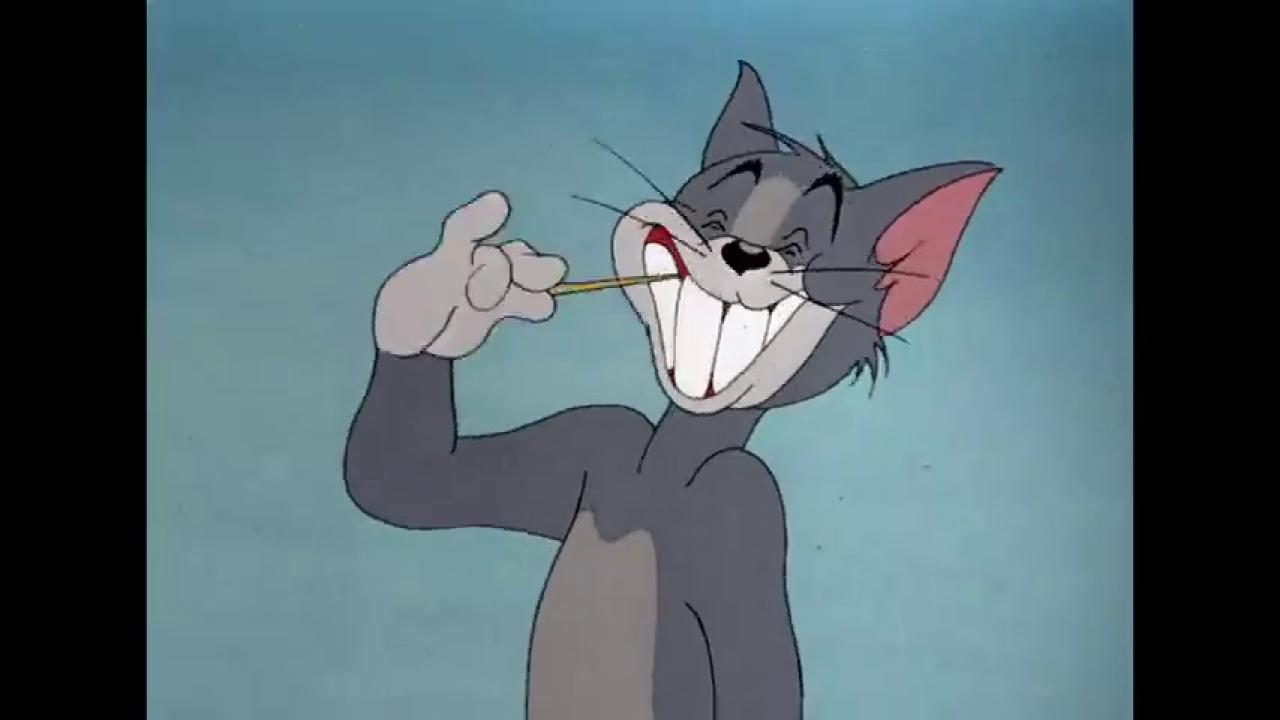Tom: (341, 57, 1003, 720)
